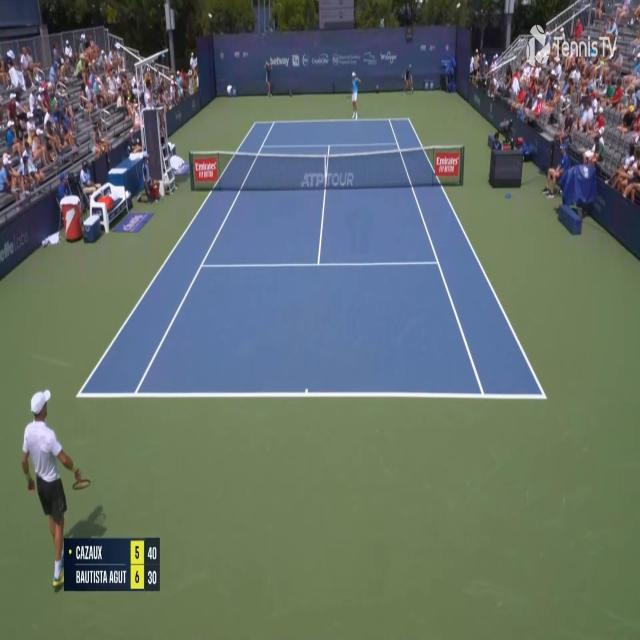tennis-player: (20, 383, 93, 552), (349, 69, 361, 121)
